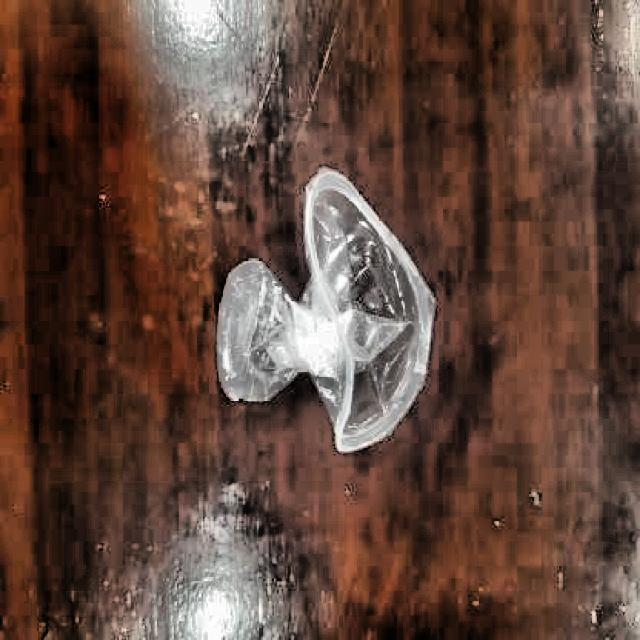Recipiente plastico: (227, 188, 428, 444)
